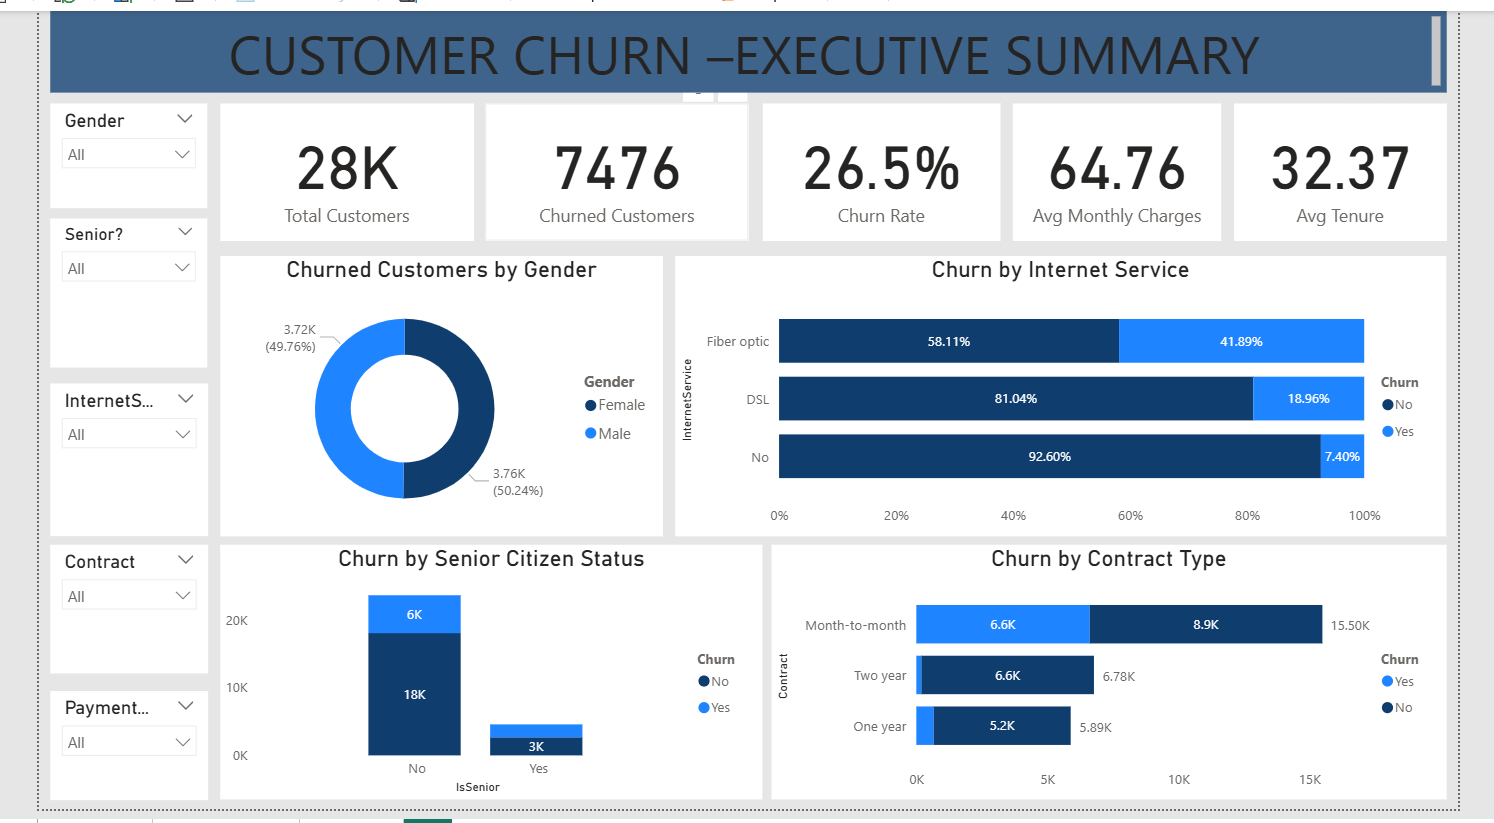

The page's visual inventory and layout, read from the dashboard file:
{"tool":"powerbi","page":{"name":"Executive ","canvas":[1280,720],"ordinal":0},"visuals":[{"type":"card","fields":{"Values":["WA_Fn-UseC_-Telco-Customer-Chur.Total Customers"]},"box":[163.4,83.4,228.8,124],"z":0},{"type":"card","fields":{"Values":["WA_Fn-UseC_-Telco-Customer-Chur.Churned Customers"]},"box":[402.4,83.4,237.8,124],"z":1000},{"type":"card","fields":{"Values":["WA_Fn-UseC_-Telco-Customer-Chur.Churn Rate"]},"box":[652.6,83.4,214.2,124],"z":2000},{"type":"card","fields":{"Values":["WA_Fn-UseC_-Telco-Customer-Chur.Avg Monthly Charges"]},"box":[878,83.4,188.2,124],"z":3000},{"type":"card","fields":{"Values":["WA_Fn-UseC_-Telco-Customer-Chur.Avg Tenure"]},"box":[1077.5,83.4,191.6,124],"z":4000},{"type":"donutChart","title":"Churned Customers by Gender","fields":{"Category":["WA_Fn-UseC_-Telco-Customer-Chur.gender"],"Y":["CountNonNull(WA_Fn-UseC_-Telco-Customer-Chur.customerID)"]},"box":[163.4,220.9,399,252.5],"z":5000},{"type":"columnChart","title":"Churn by Senior Citizen Status","fields":{"Y":["CountNonNull(WA_Fn-UseC_-Telco-Customer-Chur.customerID)"],"Series":["WA_Fn-UseC_-Telco-Customer-Chur.Churn"],"Category":["WA_Fn-UseC_-Telco-Customer-Chur.IsSenior"]},"box":[163.4,481.3,489.2,229.9],"z":6000},{"type":"hundredPercentStackedBarChart","title":"Churn by Internet Service","fields":{"Series":["WA_Fn-UseC_-Telco-Customer-Chur.Churn"],"Category":["WA_Fn-UseC_-Telco-Customer-Chur.InternetService"],"Y":["CountNonNull(WA_Fn-UseC_-Telco-Customer-Chur.customerID)"]},"box":[573.7,220.9,695.4,252.5],"z":7000},{"type":"barChart","title":"Churn by Contract Type","fields":{"Category":["WA_Fn-UseC_-Telco-Customer-Chur.Contract"],"Series":["WA_Fn-UseC_-Telco-Customer-Chur.Churn"],"Y":["CountNonNull(WA_Fn-UseC_-Telco-Customer-Chur.customerID)"]},"box":[660.5,481.3,608.6,229.9],"z":8000},{"type":"slicer","fields":{"Values":["WA_Fn-UseC_-Telco-Customer-Chur.gender"]},"box":[10.3,83.9,141.4,94.3],"z":9000},{"type":"slicer","fields":{"Values":["WA_Fn-UseC_-Telco-Customer-Chur.IsSenior"]},"box":[10.3,187.4,141.4,134.5],"z":10000},{"type":"slicer","fields":{"Values":["WA_Fn-UseC_-Telco-Customer-Chur.Contract"]},"box":[10.1,481.3,142,116.1],"z":11000},{"type":"slicer","fields":{"Values":["WA_Fn-UseC_-Telco-Customer-Chur.InternetService"]},"box":[10.1,335.9,142,137.5],"z":12000},{"type":"slicer","fields":{"Values":["WA_Fn-UseC_-Telco-Customer-Chur.PaymentMethod"]},"box":[10.1,613.2,142,98.1],"z":13000},{"type":"textbox","box":[10.1,0,1259,73.3],"z":15000}]}

Visuals, with their boxes on the page's 1280x720 design canvas (x1, y1, x2, y2). These are canvas units, not pixel positions in the 1494x823 screenshot, which may show the page scaled, cropped or inside an application window:
card - WA_Fn-UseC_-Telco-Customer-Chur.Total Customers: bbox=[163, 83, 392, 207]
card - WA_Fn-UseC_-Telco-Customer-Chur.Churned Customers: bbox=[402, 83, 640, 207]
card - WA_Fn-UseC_-Telco-Customer-Chur.Churn Rate: bbox=[653, 83, 867, 207]
card - WA_Fn-UseC_-Telco-Customer-Chur.Avg Monthly Charges: bbox=[878, 83, 1066, 207]
card - WA_Fn-UseC_-Telco-Customer-Chur.Avg Tenure: bbox=[1078, 83, 1269, 207]
"Churned Customers by Gender" donutChart: bbox=[163, 221, 562, 473]
"Churn by Senior Citizen Status" columnChart: bbox=[163, 481, 653, 711]
"Churn by Internet Service" hundredPercentStackedBarChart: bbox=[574, 221, 1269, 473]
"Churn by Contract Type" barChart: bbox=[660, 481, 1269, 711]
slicer - WA_Fn-UseC_-Telco-Customer-Chur.gender: bbox=[10, 84, 152, 178]
slicer - WA_Fn-UseC_-Telco-Customer-Chur.IsSenior: bbox=[10, 187, 152, 322]
slicer - WA_Fn-UseC_-Telco-Customer-Chur.Contract: bbox=[10, 481, 152, 597]
slicer - WA_Fn-UseC_-Telco-Customer-Chur.InternetService: bbox=[10, 336, 152, 473]
slicer - WA_Fn-UseC_-Telco-Customer-Chur.PaymentMethod: bbox=[10, 613, 152, 711]
textbox: bbox=[10, 0, 1269, 73]
